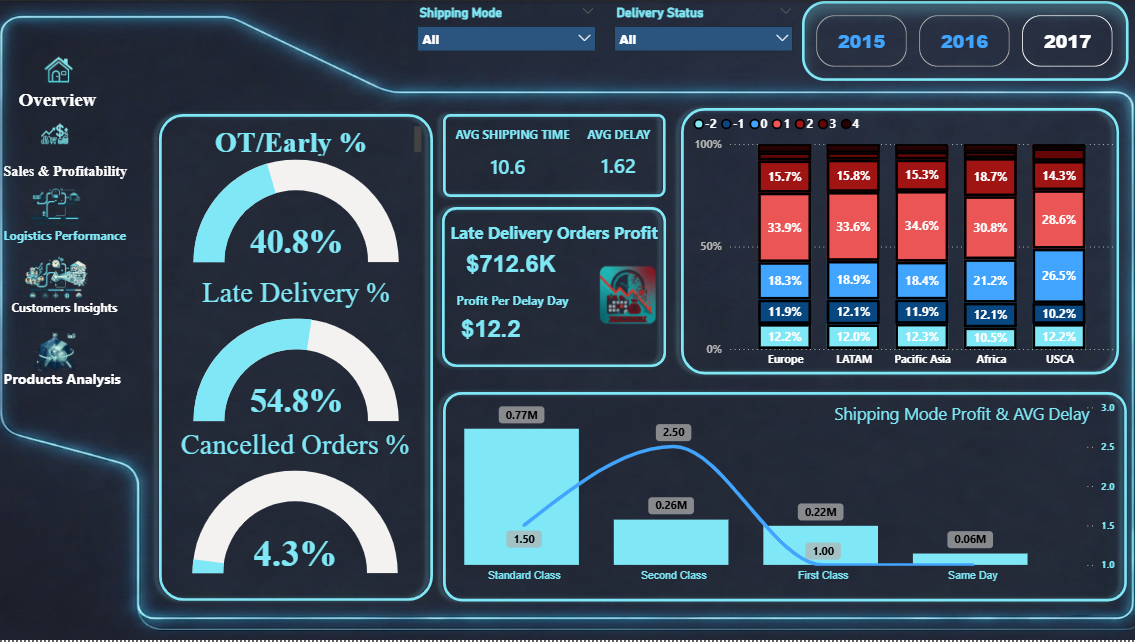

What the dashboard file says about the page in this screenshot:
{"tool":"powerbi","page":{"name":"OverView","canvas":[1280,720],"ordinal":0},"visuals":[{"type":"image","box":[0,0,1280,720],"z":0},{"type":"shape","box":[15,15.5,138.9,50],"z":1000},{"type":"textbox","box":[17.2,94.6,112.3,41.5],"z":1000,"group":"g3"},{"type":"shape","box":[442.9,99.4,336.6,320.9],"z":2000},{"type":"textbox","box":[0,178.5,173.3,43.3],"z":2000,"group":"g6"},{"type":"shape","box":[769,221.5,504,195.3],"z":2000,"group":"g4"},{"type":"barChart","fields":{"Y":["NewOrderItem.Profit in all Years"],"Category":["Dim_Shipping.Delivery Status"]},"box":[440.9,121.6,334.1,298.9],"z":3000},{"type":"areaChart","fields":{"Category":["Date Table.Date Hierarchy.Year","Date Table.Date Hierarchy.Quarter","Date Table.Date Hierarchy.Month Name"],"Y":["Count(NewOrderItem.Order Id)"]},"box":[784.4,244.1,475.4,163.9],"z":3000,"group":"g4"},{"type":"textbox","box":[0,250.2,155.6,33.3],"z":3000,"group":"g7"},{"type":"group","id":"g1","title":"Group 2","box":[767.3,102.9,504.7,130.6],"z":4000},{"type":"textbox","box":[866.2,227.3,326.2,56.9],"z":4000,"group":"g4"},{"type":"textbox","box":[9,331.1,144.4,34.4],"z":5000,"group":"g8"},{"type":"textbox","box":[160.8,421.6,279.7,56.8],"z":5000},{"type":"image","box":[20.3,43.8,93.8,66.2],"z":5001,"group":"g3"},{"type":"textbox","box":[442.6,108.8,325,39.7],"z":6000},{"type":"textbox","box":[0,409.2,144.4,32.2],"z":7000,"group":"g9"},{"type":"group","id":"g2","title":"Group 4","box":[442.9,411.6,837.1,275.5],"z":7000},{"type":"advancedSlicerVisual","fields":{"Values":["Date Table.Year"]},"box":[905,0,368.3,90],"z":8000},{"type":"group","id":"g3","title":"Group 1","box":[17.2,43.8,112.3,92.3],"z":8000,"group":"g5"},{"type":"image","box":[14.4,120.7,95.6,64],"z":9000,"group":"g6"},{"type":"cardVisual","fields":{"Data":["NewOrderItem.YOY Growth %"]},"box":[786.5,161.5,130.8,57.5],"z":9000},{"type":"shape","box":[154.6,411.4,300.4,276.5],"z":10000},{"type":"shape","box":[767.3,102.9,504.7,130.6],"z":11000,"group":"g1"},{"type":"cardVisual","fields":{"Data":["NewOrderItem.YOY Growth (Profit%)"]},"box":[885.9,160.7,150,59.3],"z":11000},{"type":"image","box":[16.8,278.9,94.4,64.4],"z":11000,"group":"g8"},{"type":"cardVisual","fields":{"Data":["NewOrderItem.YOY Growth (Orders%)"]},"box":[953.6,155.8,192.5,69.1],"z":12000},{"type":"cardVisual","fields":{"Data":["NewOrderItem.YOY Growth (Avg Profit per Order%)"]},"box":[1115.5,154.4,142,66.5],"z":13000},{"type":"image","box":[14.4,360.3,95.6,65.6],"z":13000,"group":"g9"},{"type":"shape","box":[442.9,411.6,837.1,275.5],"z":13000,"group":"g2"},{"type":"group","id":"g4","title":"Group 9","box":[769,221.5,504,195.3],"z":14000},{"type":"donutChart","fields":{"Category":["NewOrderItem.Type"],"Y":["NewOrderItem.Profit in all Years"]},"box":[160.8,444.6,293.2,244.6],"z":15000},{"type":"image","box":[125.1,74.4,343.7,406.8],"z":16000},{"type":"image","box":[16.7,205.8,94.4,50],"z":16000,"group":"g7"},{"type":"slicer","fields":{"Values":["Dim_Shipping.Delivery Status"]},"box":[682.7,0,222.4,90.5],"z":17000},{"type":"cardVisual","fields":{"Data":["NewOrderItem.Revenues in this year"]},"box":[775.2,130.1,148.7,59.2],"z":17000,"group":"g1"},{"type":"group","id":"g5","title":"Group 8","box":[0,43.8,173.3,397.6],"z":18000},{"type":"cardVisual","fields":{"Data":["NewOrderItem.Profit in this year"]},"box":[863.9,128.9,187,63.1],"z":18000,"group":"g1"},{"type":"pageNavigator","box":[0,76.6,135.2,382],"z":19000},{"type":"cardVisual","fields":{"Data":["NewOrderItem.Total Orders in this year"]},"box":[982.3,132.2,135,55],"z":19000,"group":"g1"},{"type":"slicer","fields":{"Values":["Dim_Shipping.Shipping Mode"]},"box":[461.4,0,221.6,89.8],"z":20000},{"type":"group","id":"g6","title":"Group 3","box":[0,120.7,173.3,101.1],"z":20000,"group":"g5"},{"type":"cardVisual","fields":{"Data":["NewOrderItem.Avg Profit per Order in this year"]},"box":[1101.6,132.7,165.7,54.1],"z":20000,"group":"g1"},{"type":"clusteredColumnChart","fields":{"Category":["Dim_Location.Order Country"],"Y":["NewOrderItem.Revenues in all Years","NewOrderItem.Profit in all Years"]},"box":[454.2,445.3,814.5,237.3],"z":20000,"group":"g2"},{"type":"group","id":"g7","title":"Group 5","box":[0,205.8,155.6,77.8],"z":21000,"group":"g5"},{"type":"textbox","box":[657,419.3,341.3,56.6],"z":21000,"group":"g2"},{"type":"textbox","box":[910.5,122,93,33.6],"z":22000,"group":"g1"},{"type":"group","id":"g8","title":"Group 6","box":[9,278.9,144.4,86.7],"z":22000,"group":"g5"},{"type":"textbox","box":[1003.5,122,131,33.6],"z":23000,"group":"g1"},{"type":"group","id":"g9","title":"Group 7","box":[0,360.3,144.4,81.1],"z":23000,"group":"g5"},{"type":"textbox","box":[1113.8,122.3,151.7,38.4],"z":24000,"group":"g1"},{"type":"textbox","box":[785.7,123.3,138.2,27.6],"z":28000,"group":"g1"}]}

Visuals, with their boxes in screenshot pixels (x1, y1, x2, y2), scaled from the page's 1280x720 canvas onto the 1135x642 screenshot:
image: <region>0, 0, 1134, 641</region>
shape: <region>13, 14, 136, 58</region>
textbox: <region>15, 84, 115, 121</region>
shape: <region>393, 89, 691, 375</region>
textbox: <region>0, 159, 154, 198</region>
shape: <region>682, 198, 1129, 372</region>
barChart - NewOrderItem.Profit in all Years x Dim_Shipping.Delivery Status: <region>391, 108, 687, 375</region>
areaChart - Date Table.Date Hierarchy.Year x Date Table.Date Hierarchy.Quarter: <region>696, 218, 1117, 364</region>
textbox: <region>0, 223, 138, 253</region>
"Group 2" group: <region>680, 92, 1128, 208</region>
textbox: <region>768, 203, 1057, 253</region>
textbox: <region>8, 295, 136, 326</region>
textbox: <region>143, 376, 391, 427</region>
image: <region>18, 39, 101, 98</region>
textbox: <region>392, 97, 681, 132</region>
textbox: <region>0, 365, 128, 394</region>
"Group 4" group: <region>393, 367, 1134, 613</region>
advancedSlicerVisual - Date Table.Year: <region>802, 0, 1129, 80</region>
"Group 1" group: <region>15, 39, 115, 121</region>
image: <region>13, 108, 98, 165</region>
cardVisual - NewOrderItem.YOY Growth %: <region>697, 144, 813, 195</region>
shape: <region>137, 367, 403, 613</region>
shape: <region>680, 92, 1128, 208</region>
cardVisual - NewOrderItem.YOY Growth (Profit%): <region>786, 143, 919, 196</region>
image: <region>15, 249, 99, 306</region>
cardVisual - NewOrderItem.YOY Growth (Orders%): <region>846, 139, 1016, 201</region>
cardVisual - NewOrderItem.YOY Growth (Avg Profit per Order%): <region>989, 138, 1115, 197</region>
image: <region>13, 321, 98, 380</region>
shape: <region>393, 367, 1134, 613</region>
"Group 9" group: <region>682, 198, 1129, 372</region>
donutChart - NewOrderItem.Type x NewOrderItem.Profit in all Years: <region>143, 396, 403, 615</region>
image: <region>111, 66, 416, 429</region>
image: <region>15, 184, 99, 228</region>
slicer - Dim_Shipping.Delivery Status: <region>605, 0, 803, 81</region>
cardVisual - NewOrderItem.Revenues in this year: <region>687, 116, 819, 169</region>
"Group 8" group: <region>0, 39, 154, 394</region>
cardVisual - NewOrderItem.Profit in this year: <region>766, 115, 932, 171</region>
pageNavigator: <region>0, 68, 120, 409</region>
cardVisual - NewOrderItem.Total Orders in this year: <region>871, 118, 991, 167</region>
slicer - Dim_Shipping.Shipping Mode: <region>409, 0, 606, 80</region>
"Group 3" group: <region>0, 108, 154, 198</region>
cardVisual - NewOrderItem.Avg Profit per Order in this year: <region>977, 118, 1124, 167</region>
clusteredColumnChart - Dim_Location.Order Country x NewOrderItem.Revenues in all Years: <region>403, 397, 1125, 609</region>
"Group 5" group: <region>0, 184, 138, 253</region>
textbox: <region>583, 374, 885, 424</region>
textbox: <region>807, 109, 890, 139</region>
"Group 6" group: <region>8, 249, 136, 326</region>
textbox: <region>890, 109, 1006, 139</region>
"Group 7" group: <region>0, 321, 128, 394</region>
textbox: <region>988, 109, 1122, 143</region>
textbox: <region>697, 110, 819, 135</region>
